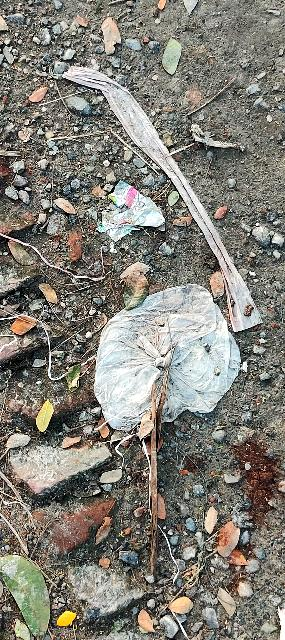polythene: (59, 260, 275, 455)
